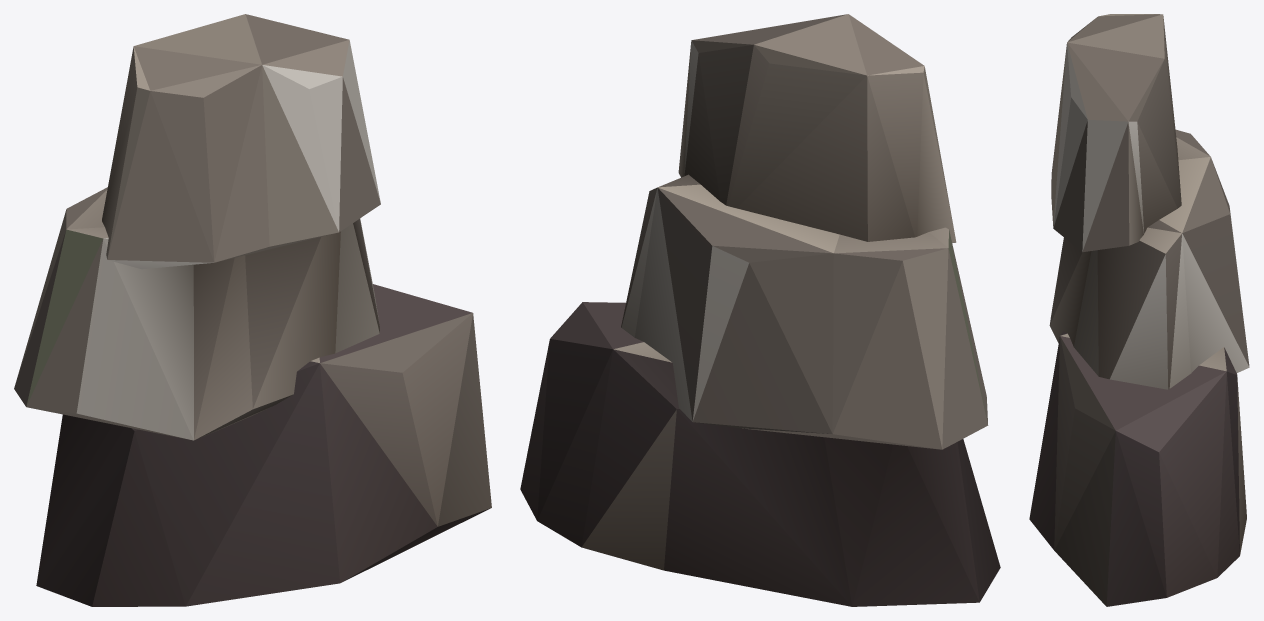
File: ash_cliff_a.glb
3 renders of one model, left to right at view 1: azimuth 30°, elevation 25°; view 2: azimuth 150°, elevation 25°; view 3: azimuth 270°, elevation 25°, orthographic. The views are drawn at different scales.
Visible parts, largest first — view 1: ca_ash_cliff_a; view 2: ca_ash_cliff_a; view 3: ca_ash_cliff_a.
Boxes of the visible parts, x1,y1,x2,y2 form: ca_ash_cliff_a: [14, 14, 491, 606]; ca_ash_cliff_a: [520, 14, 1000, 606]; ca_ash_cliff_a: [1029, 14, 1249, 606].
Size of the model in its own units: 2.78 by 3.01 by 1.31.
1 material, 1 textured.
